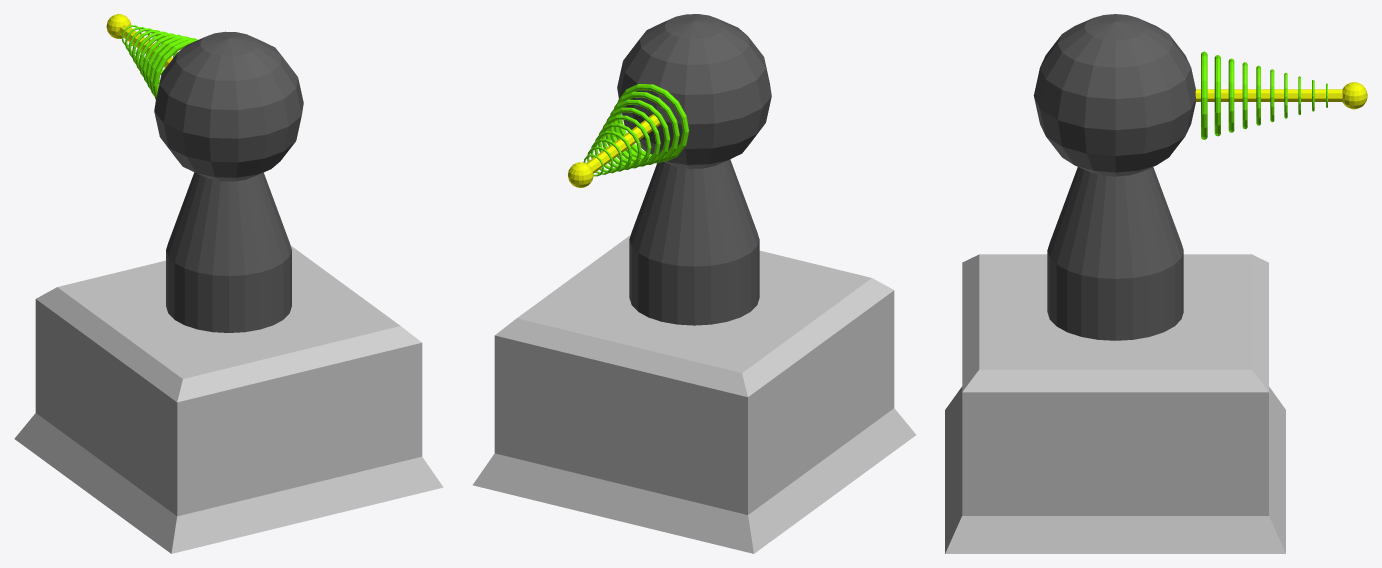
Rendered from BaseTower.fbx.
The picture shows the model from 3 angles, left to right: view 1: azimuth 30°, elevation 25°; view 2: azimuth 150°, elevation 25°; view 3: azimuth 270°, elevation 25°; orthographic projection. The views are drawn at different scales.
Visible parts, largest first — view 1: Sockel, RotationPoint, Stand; view 2: Sockel, Stand, RotationPoint, Ring_0, Muzzle, Ring_1, Ring_2, Ring_3; view 3: Sockel, RotationPoint, Stand, Muzzle, Ring_0, EndPoint, Ring_1.
Boxes of the visible parts, x1,y1,x2,y2 form: Sockel: [14, 246, 443, 553]; RotationPoint: [154, 31, 303, 181]; Stand: [166, 172, 291, 332]; Sockel: [473, 235, 915, 553]; Stand: [629, 159, 759, 325]; RotationPoint: [617, 14, 771, 168]; Ring_0: [617, 84, 689, 161]; Muzzle: [586, 114, 660, 173]; Ring_1: [614, 91, 679, 163]; Ring_2: [609, 99, 670, 164]; Ring_3: [605, 107, 660, 166]; Sockel: [945, 254, 1285, 553]; RotationPoint: [1033, 14, 1195, 176]; Stand: [1047, 167, 1183, 340]; Muzzle: [1195, 89, 1342, 101]; Ring_0: [1201, 51, 1207, 139]; EndPoint: [1342, 82, 1367, 109]; Ring_1: [1214, 55, 1220, 136].
Bounding box in the file's own units: 100 × 149 × 124.
